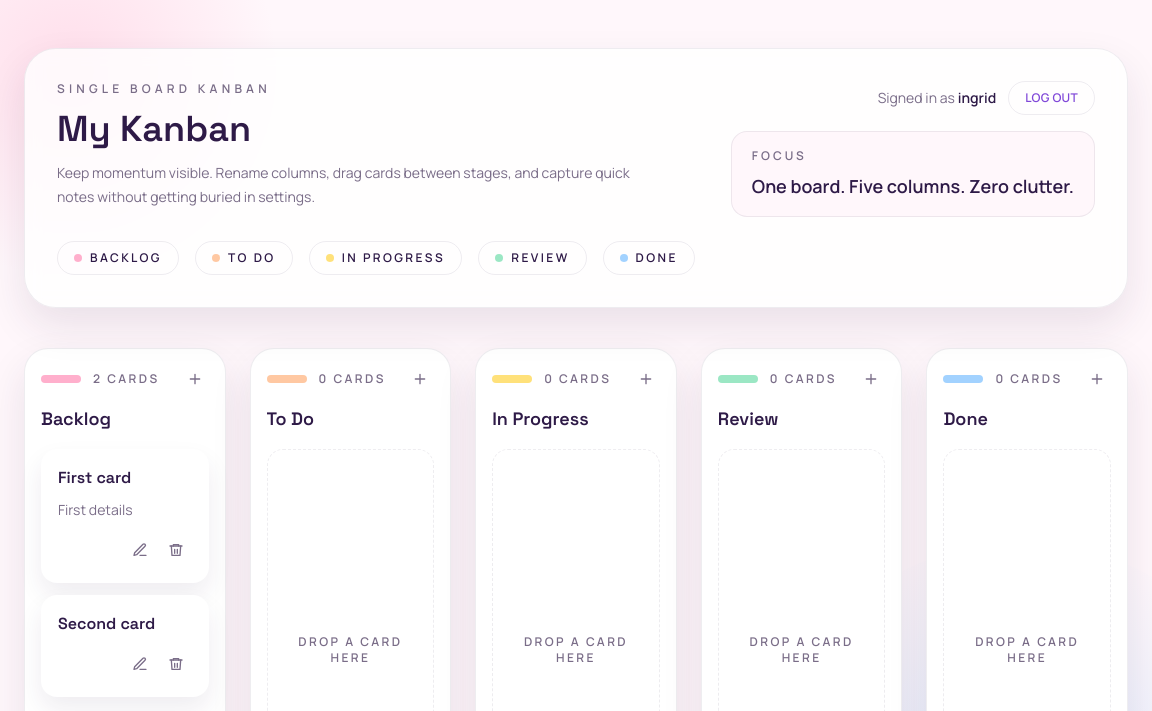
Test: KanbanBoard › adds a card and saves it
This screenshot has width=1152, height=711.
Click the 1st button named "add a card": (195, 379) x1=181 y1=365 x2=209 y2=393
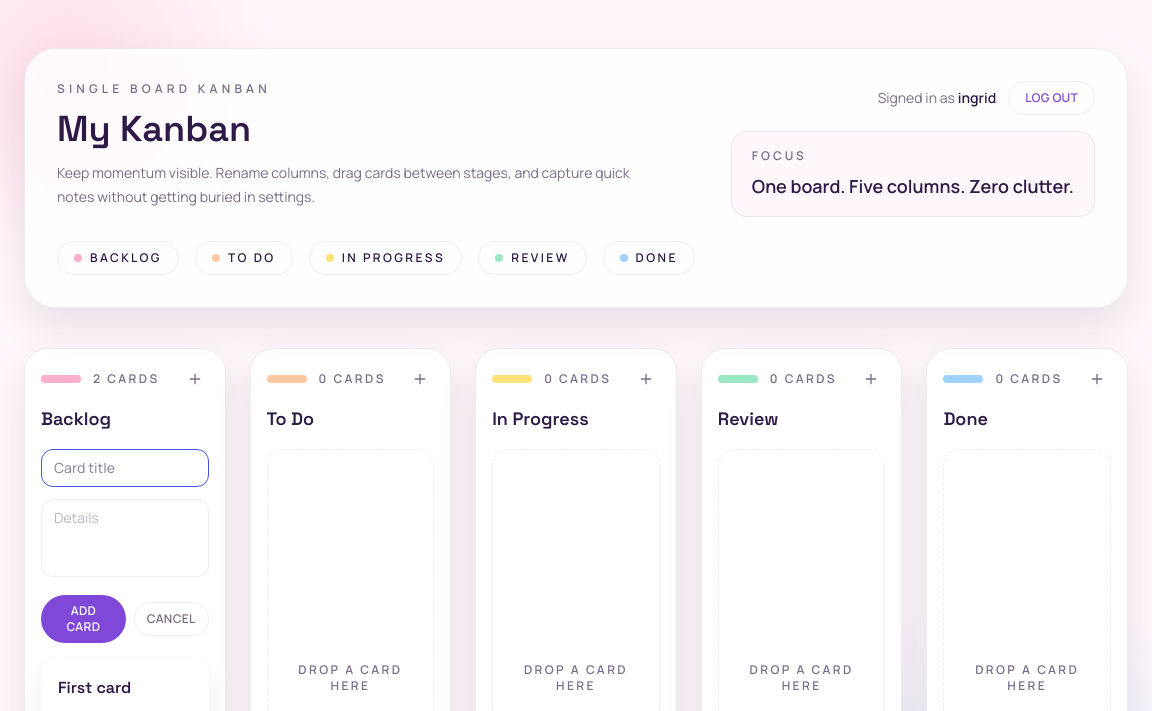
In the field with placeholder "Card title": (125, 468) x1=41 y1=449 x2=209 y2=487, type "New card"
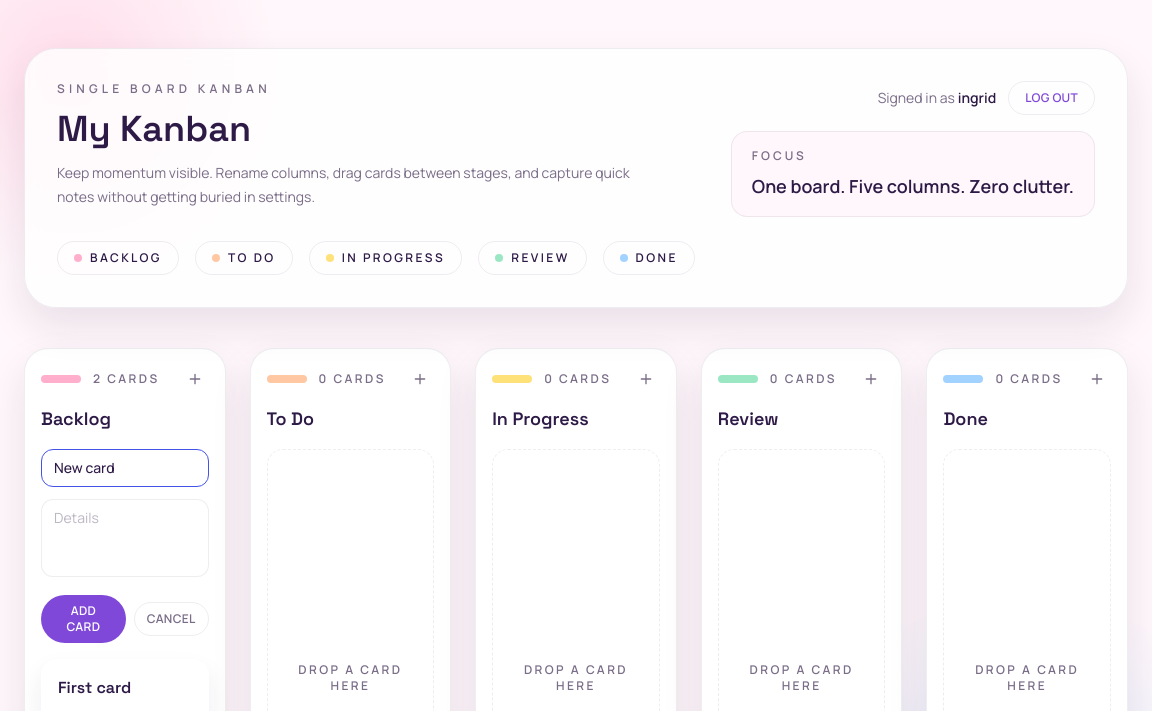
In the text box with placeholder "Details": (125, 538) x1=41 y1=499 x2=209 y2=577, type "Notes"
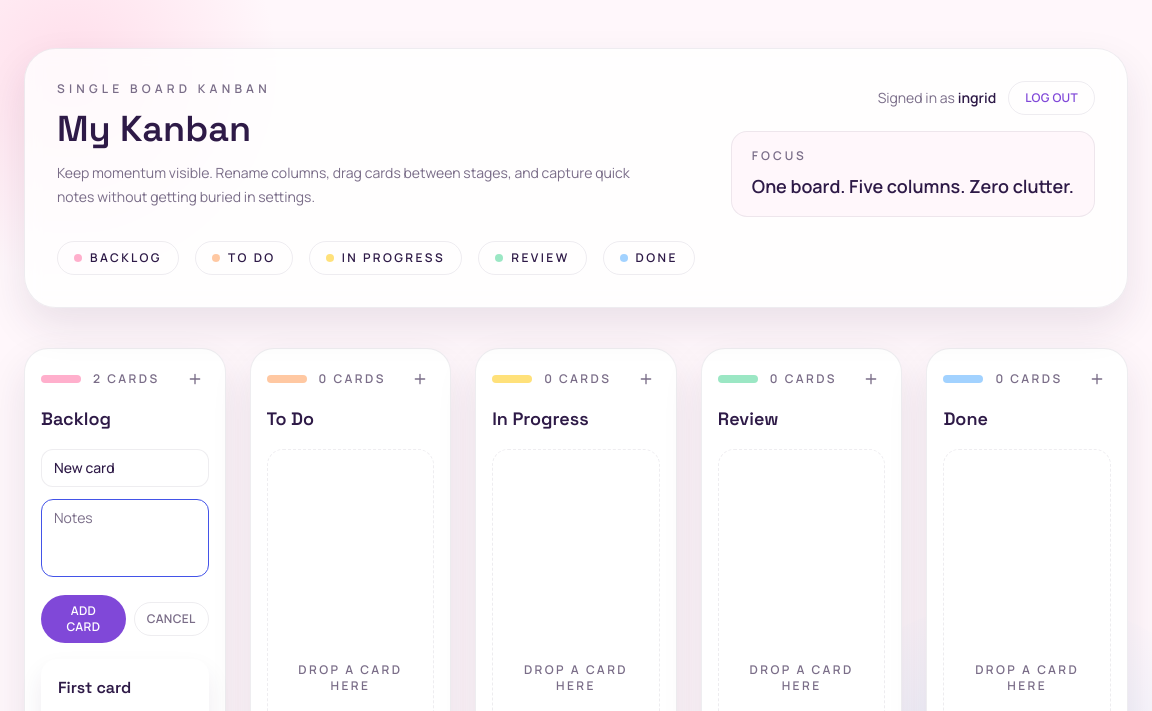
Click the button "Add card": (83, 619) x1=41 y1=595 x2=126 y2=643
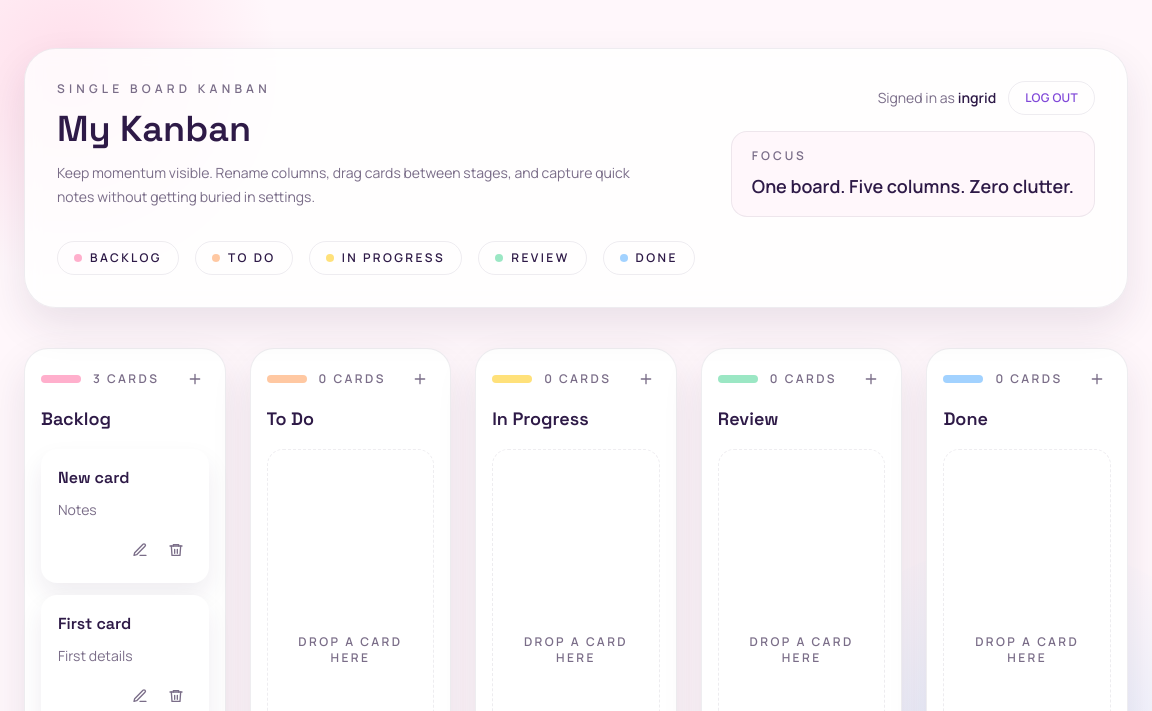
Result: the heading "New card" is shown at x1=58 y1=467 x2=130 y2=488
